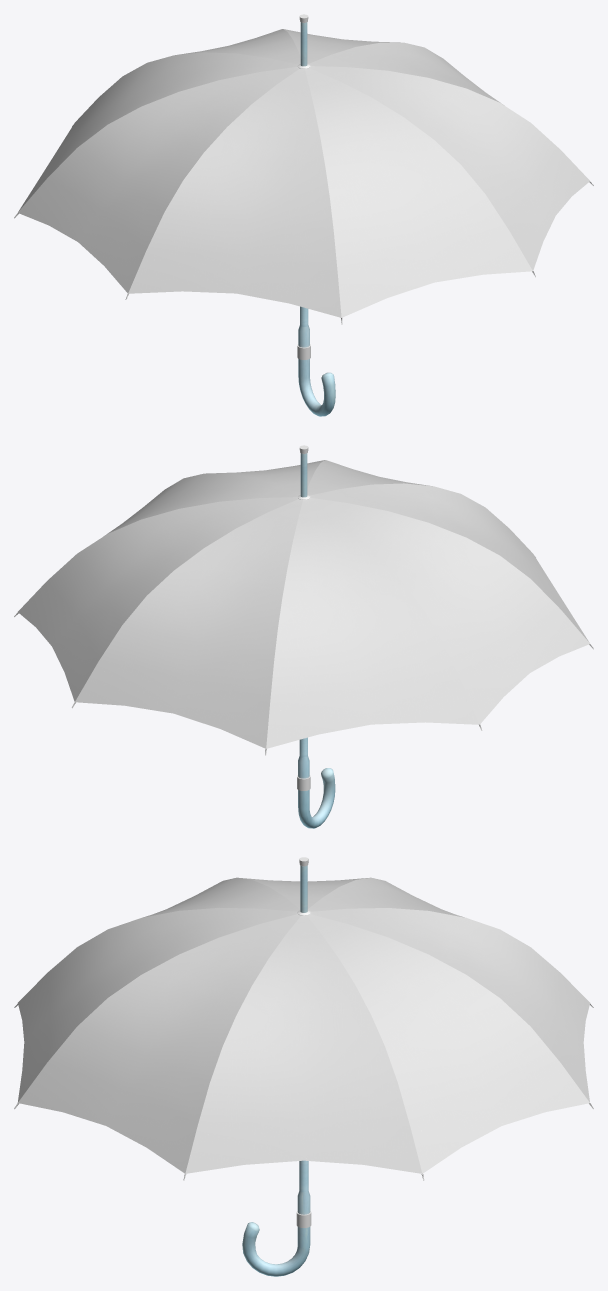
File: ubrella_white.glb
The picture shows the model from 3 angles, top to bottom: view 1: azimuth 30°, elevation 25°; view 2: azimuth 150°, elevation 25°; view 3: azimuth 270°, elevation 25°; orthographic projection. The views are drawn at different scales.
Parts seen in each view (by area): view 1: Object_3; view 2: Object_3; view 3: Object_3.
Part boxes in pixels (left/top/right/bottom): Object_3: left=14, top=14, right=593, bottom=416; Object_3: left=14, top=445, right=593, bottom=828; Object_3: left=14, top=857, right=593, bottom=1276.
Size of the model in its own units: 125 by 98.82 by 125.
1 material, 1 textured.
